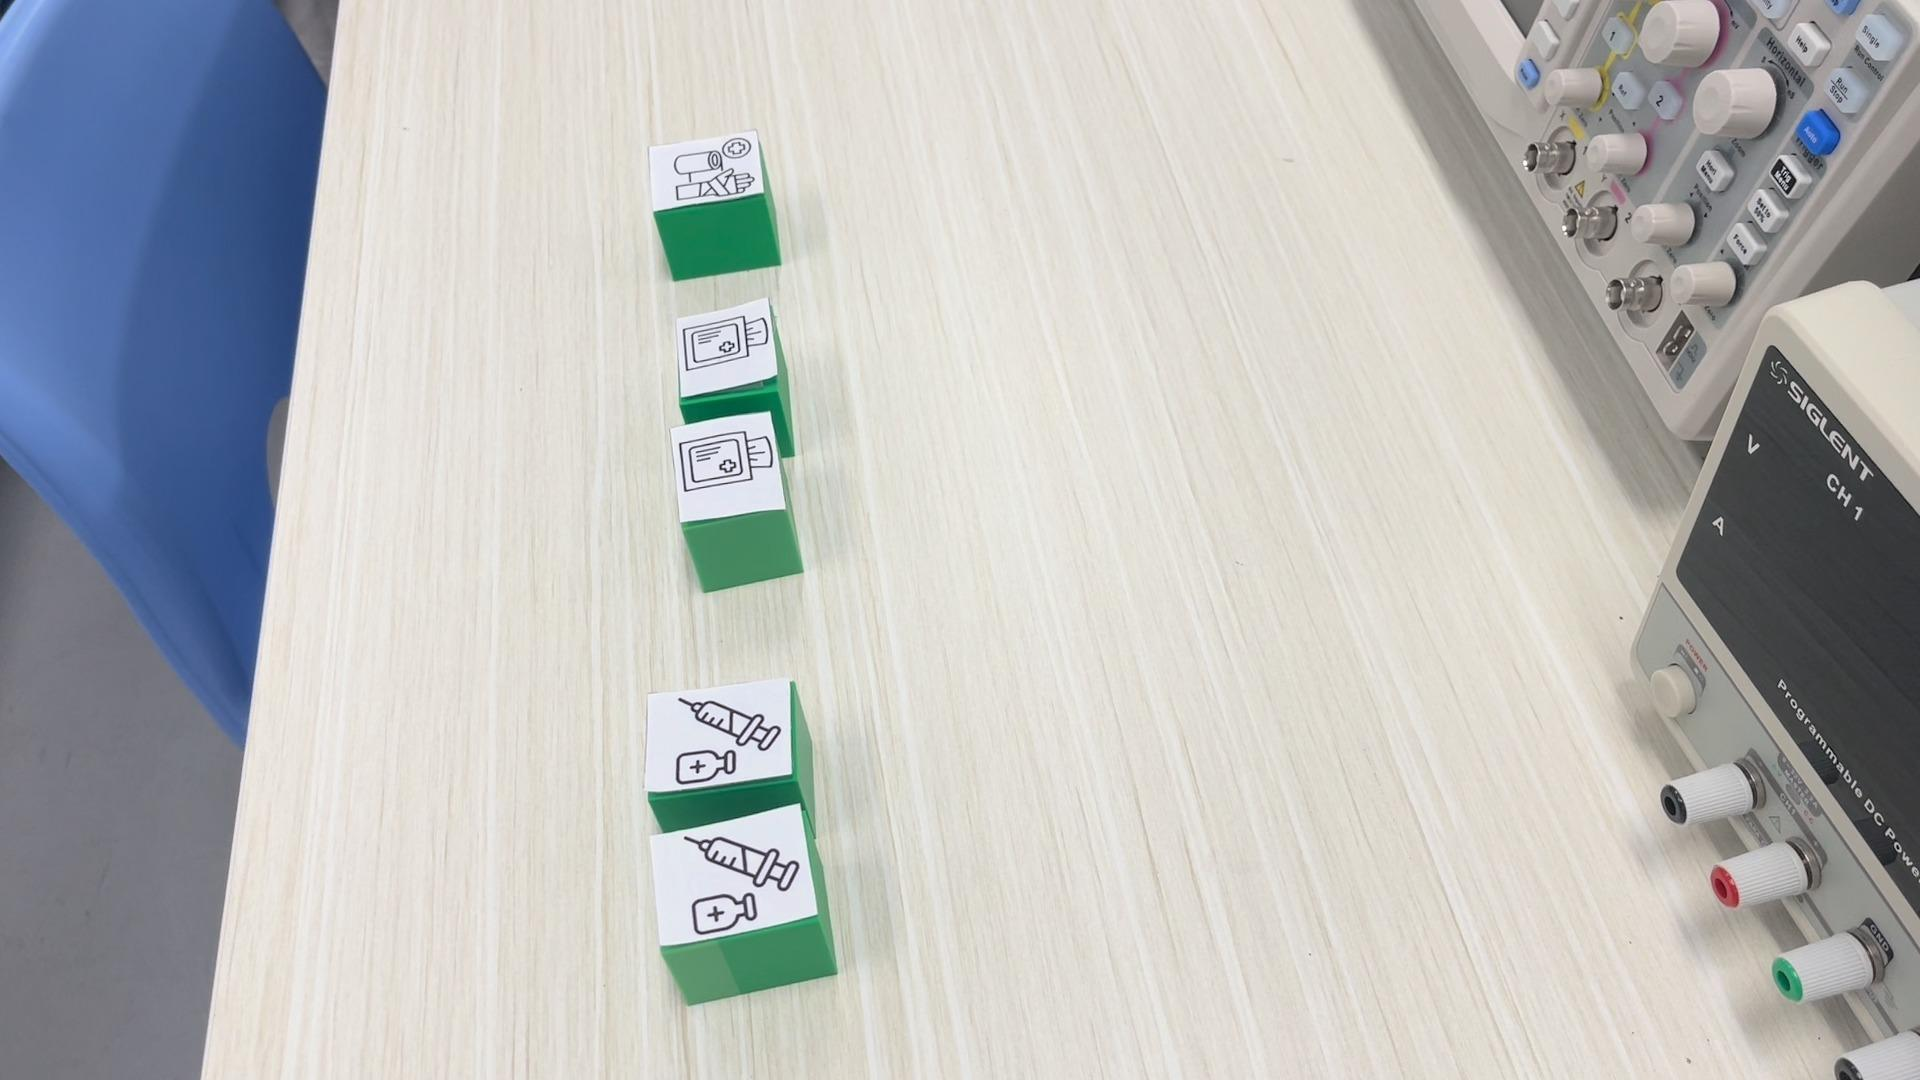Bandages: (645, 129, 781, 280)
Gauze: (671, 410, 806, 592), (675, 293, 790, 414)
antiseptic cream: (649, 800, 839, 1006), (644, 676, 814, 831)
